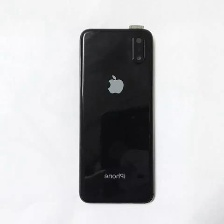phone: (76, 23, 157, 208)
